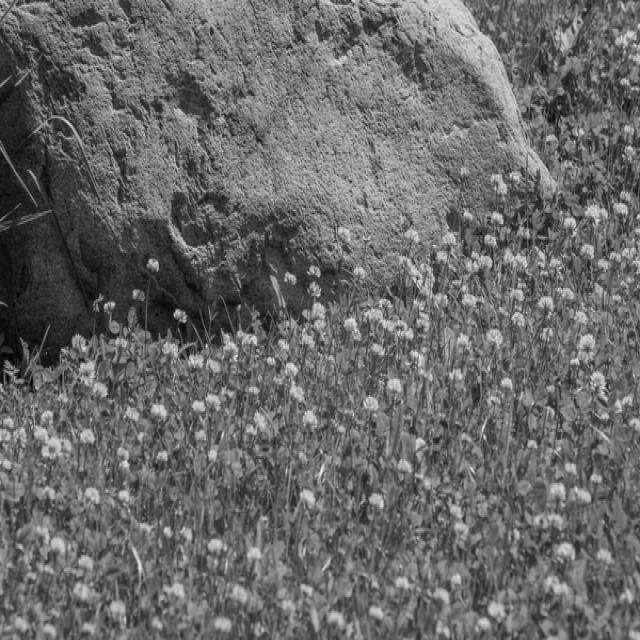Stone: (0, 2, 555, 350)
